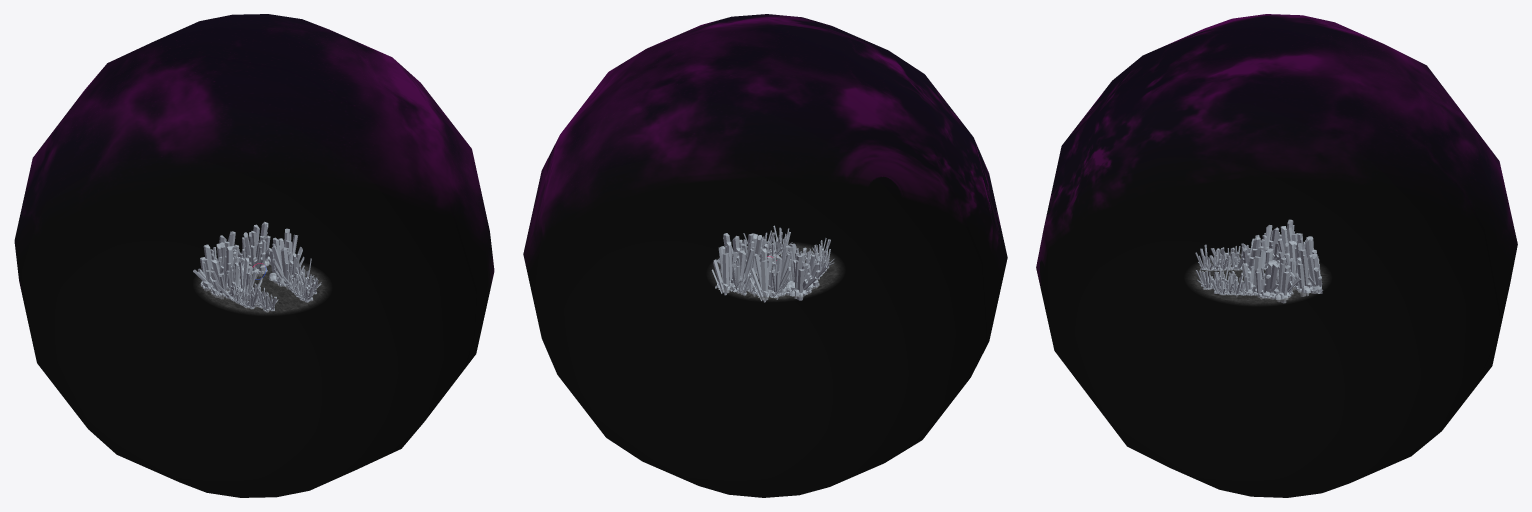
File: teste.gltf
3 views of the same model, side by side, from view 1: azimuth 30°, elevation 25°; view 2: azimuth 150°, elevation 25°; view 3: azimuth 270°, elevation 25° (orthographic).
Parts seen in each view (by area): view 1: Sphere, Cylinder.067, Plane; view 2: Sphere, Cylinder.067, Plane; view 3: Sphere, Cylinder.067, Plane.
Boxes of the visible parts, box(x1,y1,x2,y2) form: Sphere: box(14, 14, 494, 497); Cylinder.067: box(193, 221, 321, 312); Plane: box(195, 263, 329, 314); Sphere: box(523, 14, 1007, 497); Cylinder.067: box(711, 225, 834, 302); Plane: box(709, 243, 842, 300); Sphere: box(1036, 14, 1517, 497); Cylinder.067: box(1195, 219, 1322, 303); Plane: box(1187, 251, 1328, 305).
Bounding box in the file's own units: 94.62 × 95.24 × 94.62.
Materials: 4 (3 with a texture image).
